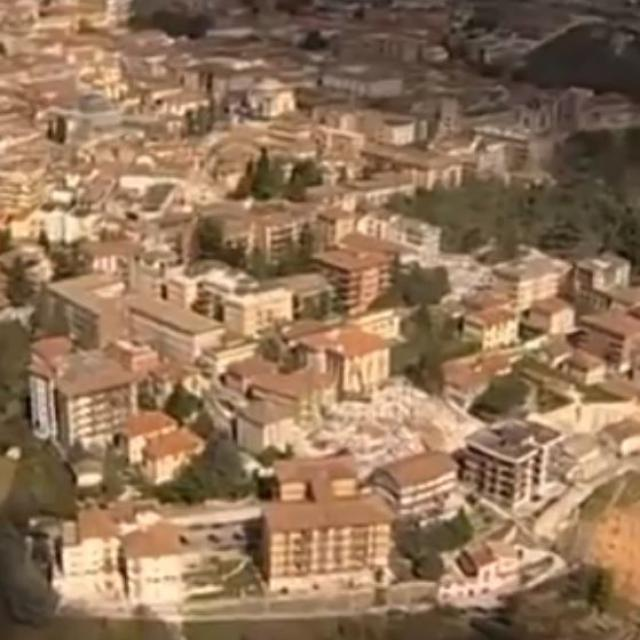collapsed_building: (321, 368, 460, 474)
